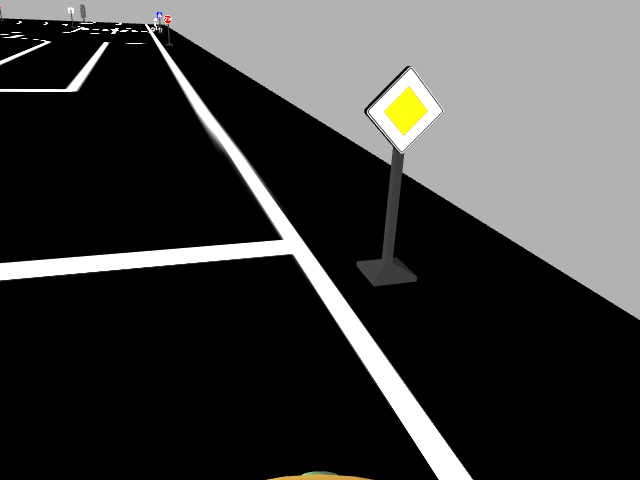Priority: (360, 66, 442, 153)
